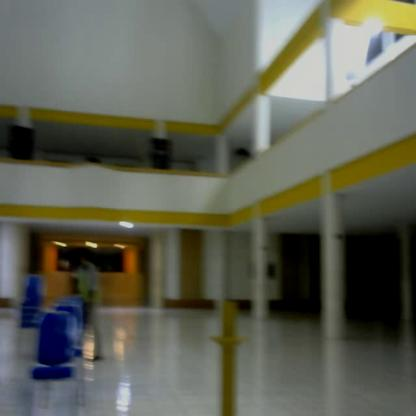pole: (201, 293, 250, 416)
